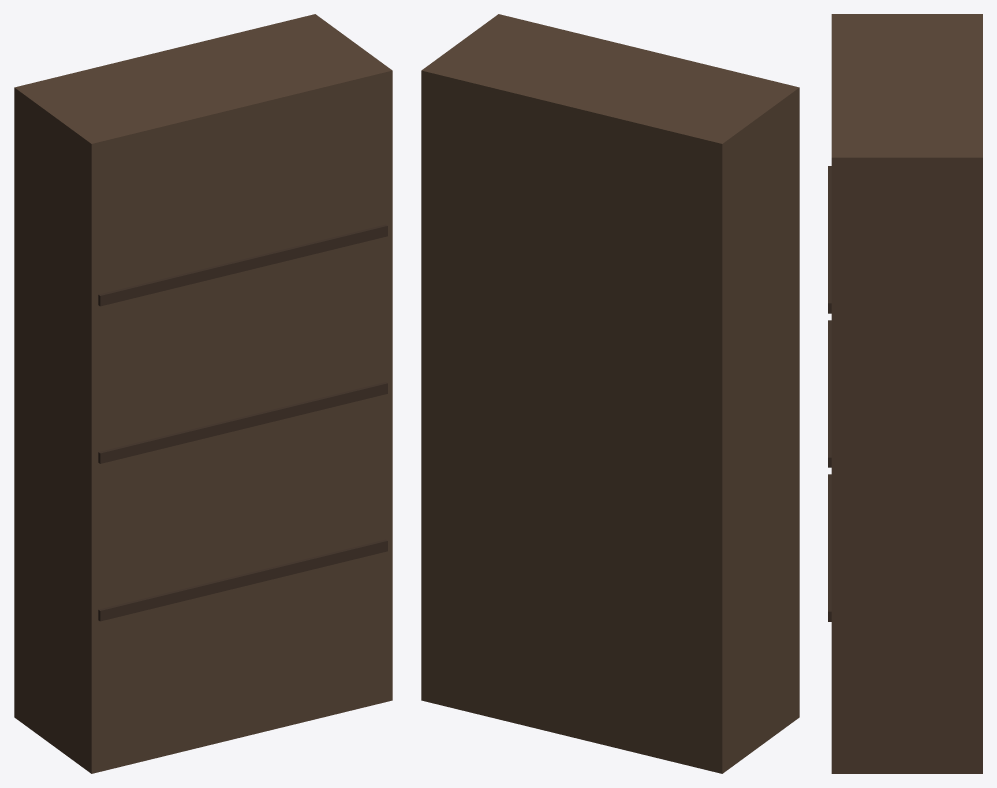
The model's file is interior_shelf.glb.
3 renders of one model, left to right at view 1: azimuth 30°, elevation 25°; view 2: azimuth 150°, elevation 25°; view 3: azimuth 270°, elevation 25°, orthographic. The views are drawn at different scales.
Parts seen in each view (by area): view 1: interior_shelf; view 2: interior_shelf; view 3: interior_shelf.
Boxes of the visible parts, x1,y1,x2,y2 form: interior_shelf: [14, 14, 392, 773]; interior_shelf: [421, 14, 799, 773]; interior_shelf: [828, 14, 982, 773].
Bounding box in the file's own units: 0.9 × 1.8 × 0.41.
